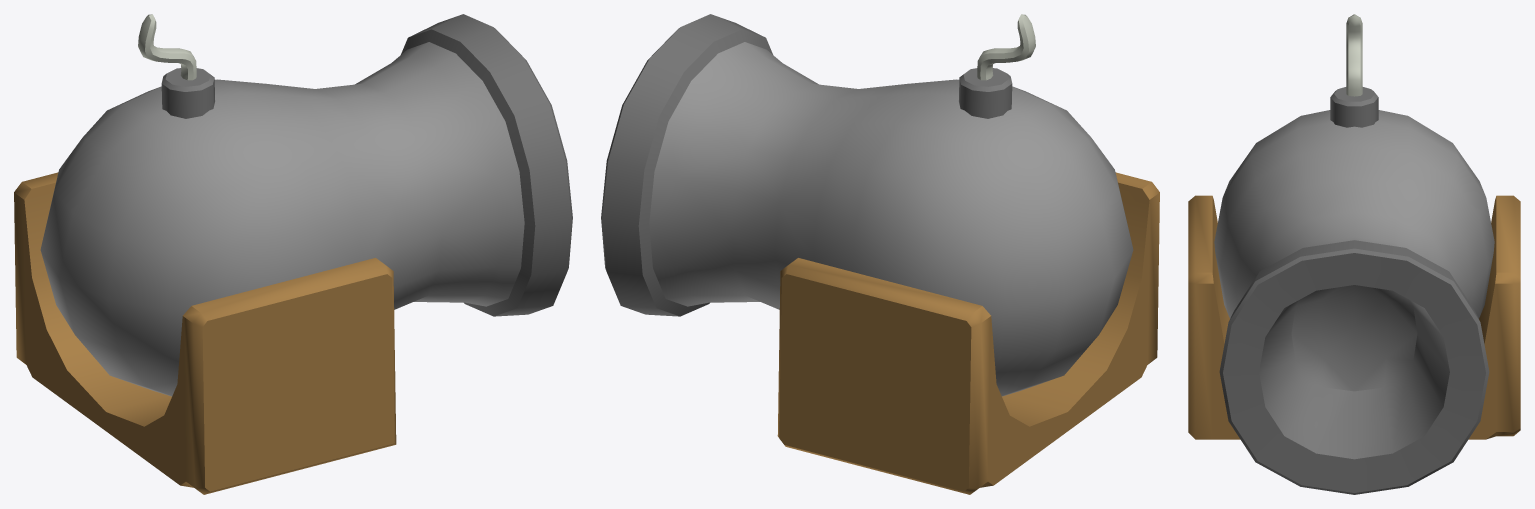
Rendered from SM_Cannon.fbx.
The picture shows the model from 3 angles, left to right: view 1: azimuth 30°, elevation 25°; view 2: azimuth 150°, elevation 25°; view 3: azimuth 270°, elevation 25°; orthographic projection. The views are drawn at different scales.
Parts seen in each view (by area): view 1: SM_Cannon; view 2: SM_Cannon; view 3: SM_Cannon.
Boxes of the visible parts, <box> form: SM_Cannon: <box>14,14,572,494</box>; SM_Cannon: <box>601,14,1159,494</box>; SM_Cannon: <box>1188,14,1520,494</box>.
Bounding box in the file's own units: 3.37 × 2.96 × 2.48.
